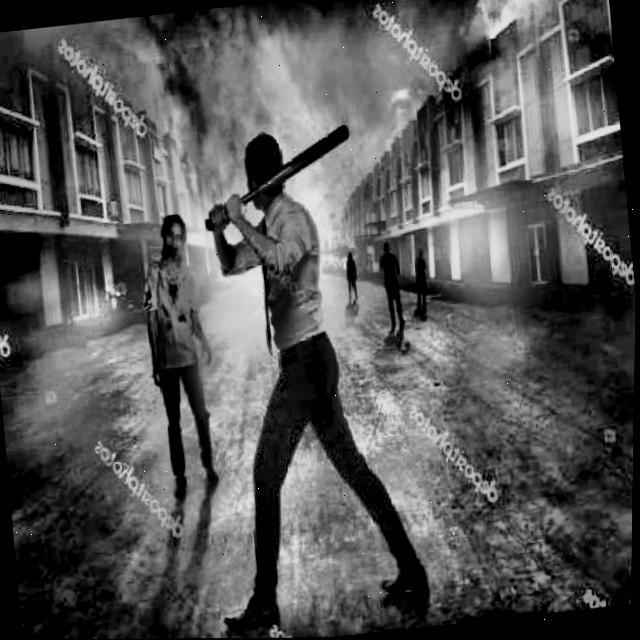tongkat pemukul: (187, 118, 358, 235)
